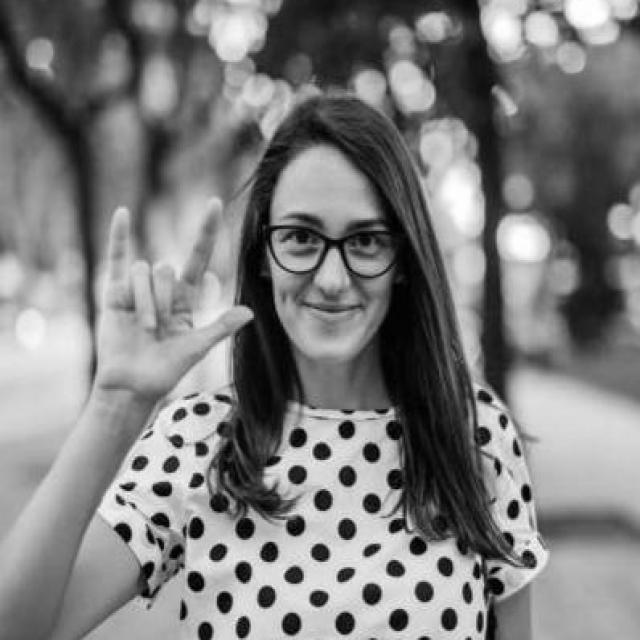i love you: (92, 189, 266, 429)
